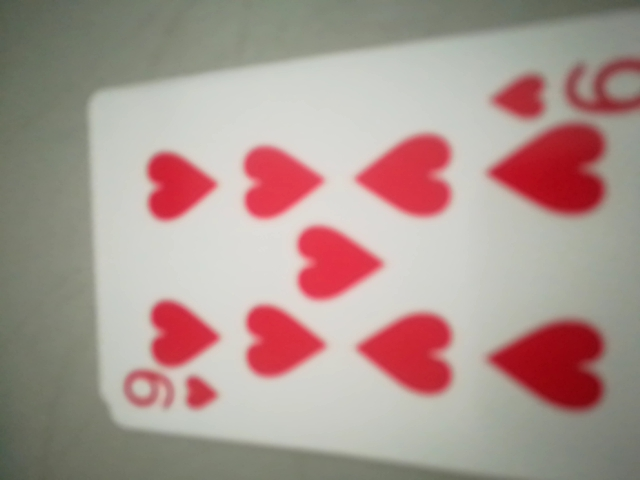hx 9: (114, 360, 228, 424)
